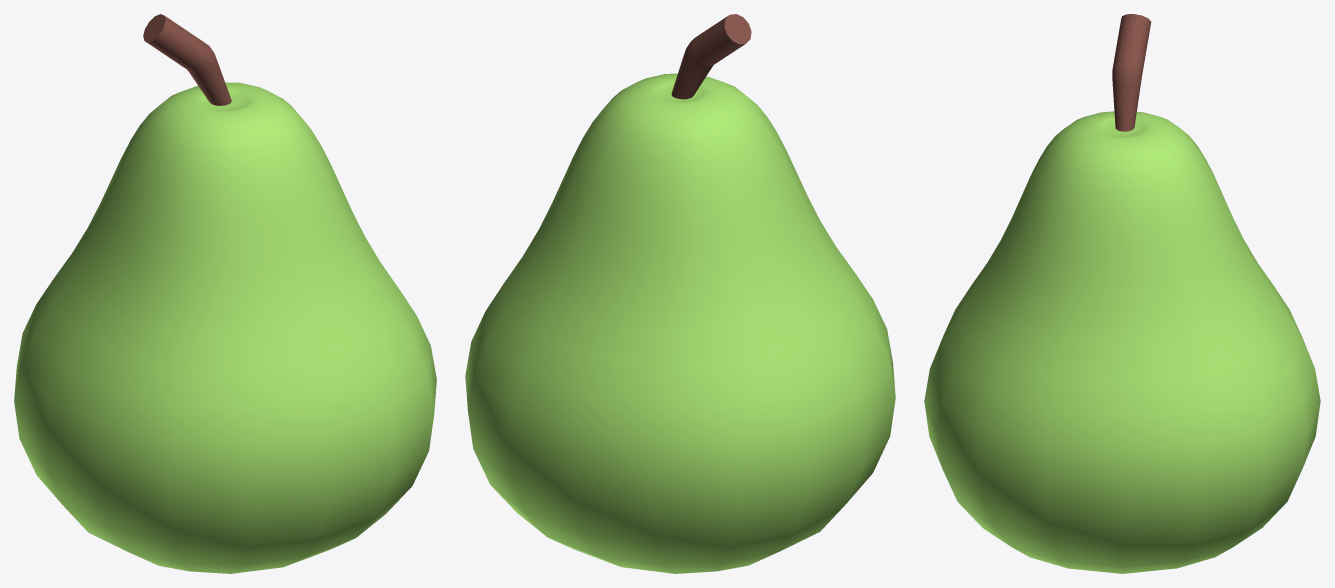
File: Pear.fbx
3 views of the same model, side by side, from view 1: azimuth 30°, elevation 25°; view 2: azimuth 150°, elevation 25°; view 3: azimuth 270°, elevation 25° (orthographic). The views are drawn at different scales.
Parts seen in each view (by area): view 1: Pear; view 2: Pear; view 3: Pear.
Part boxes in pixels (<box>): Pear: <box>14,14,436,573</box>; Pear: <box>465,14,895,573</box>; Pear: <box>924,14,1320,573</box>.
Bounding box in the file's own units: 118 × 166 × 118.
